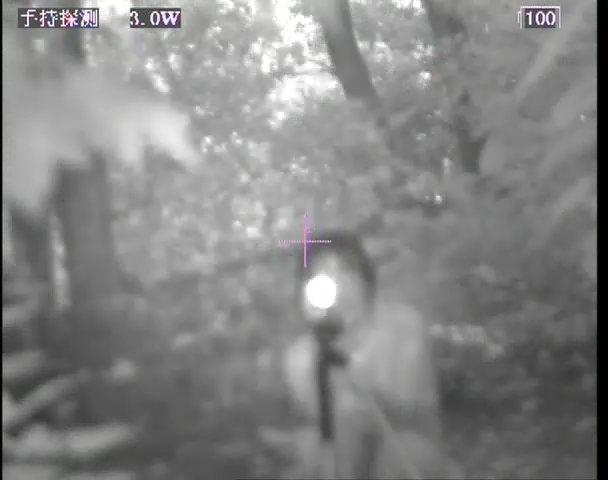my: (301, 270, 338, 311)
